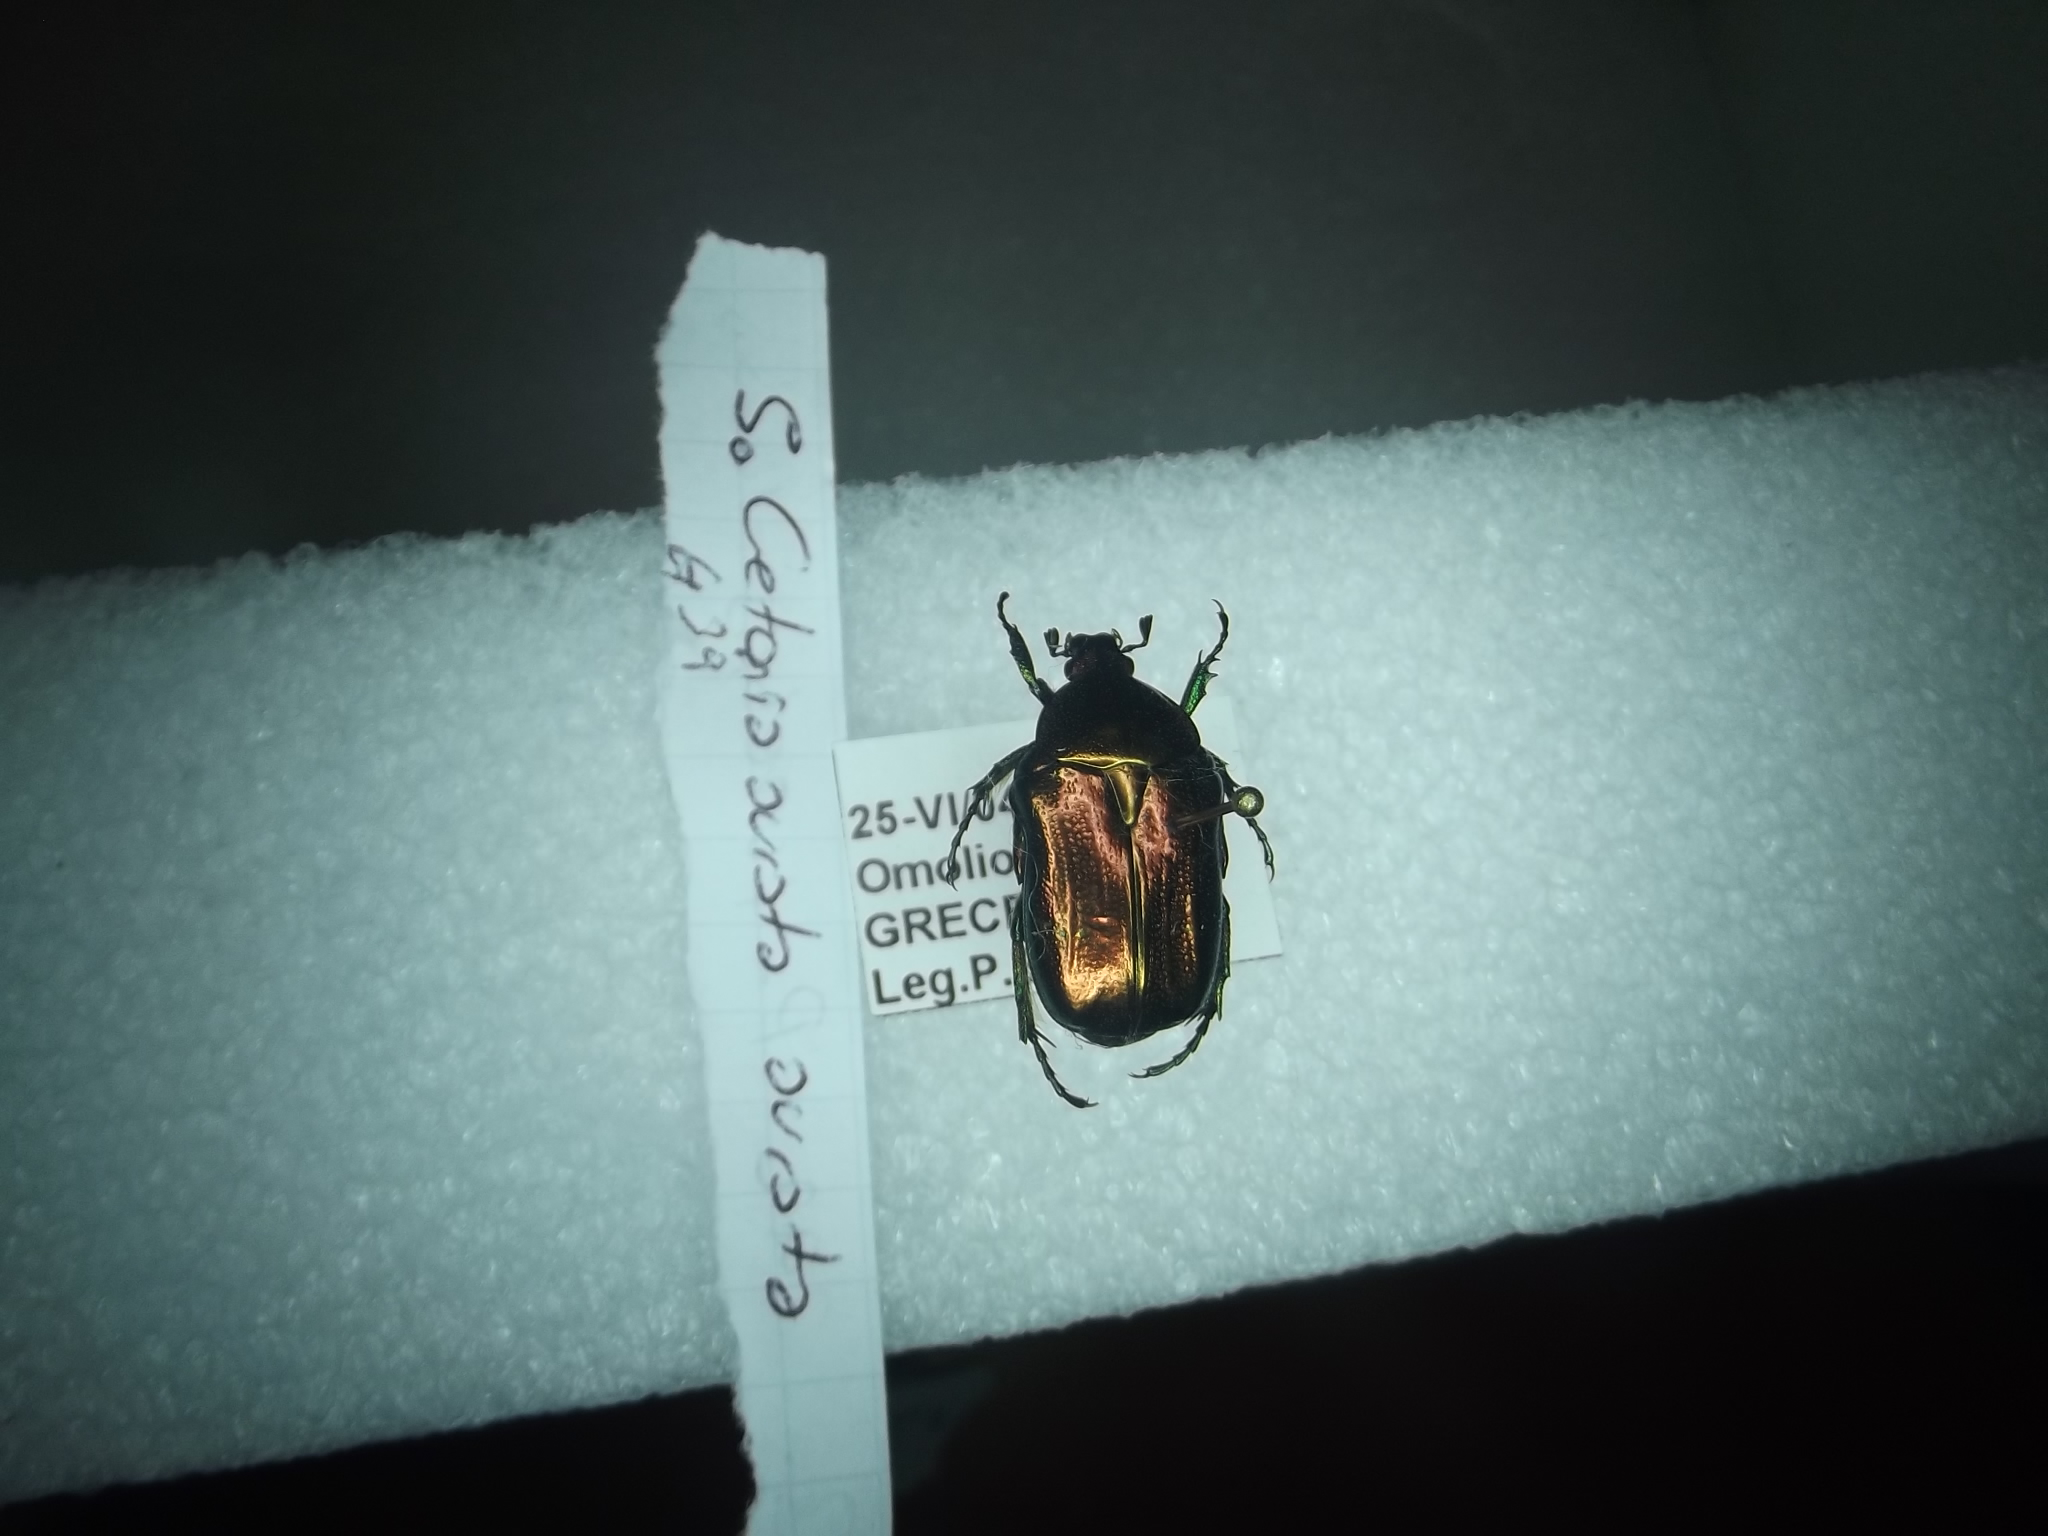Cetonia_aurata: (972, 568, 1280, 1113)
